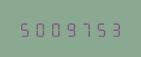five: (17, 20, 31, 37), (92, 20, 106, 37)
nine: (62, 20, 76, 37)
seven: (77, 20, 91, 37)
three: (107, 20, 121, 37)
zero: (32, 20, 46, 37), (47, 20, 61, 37)
